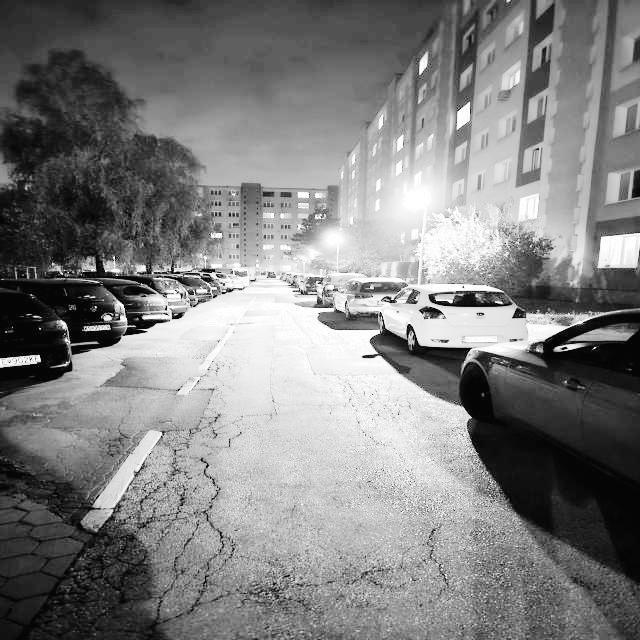Light: (411, 195, 429, 284), (329, 236, 340, 273)
